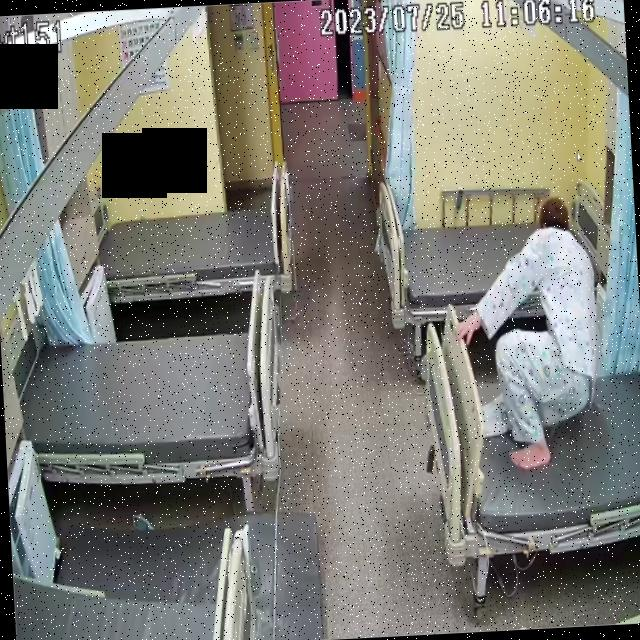bed: (420, 307, 640, 563), (14, 320, 286, 486), (376, 198, 616, 328), (99, 194, 292, 302)
danger: (437, 203, 604, 471)
patient: (442, 200, 602, 468)
